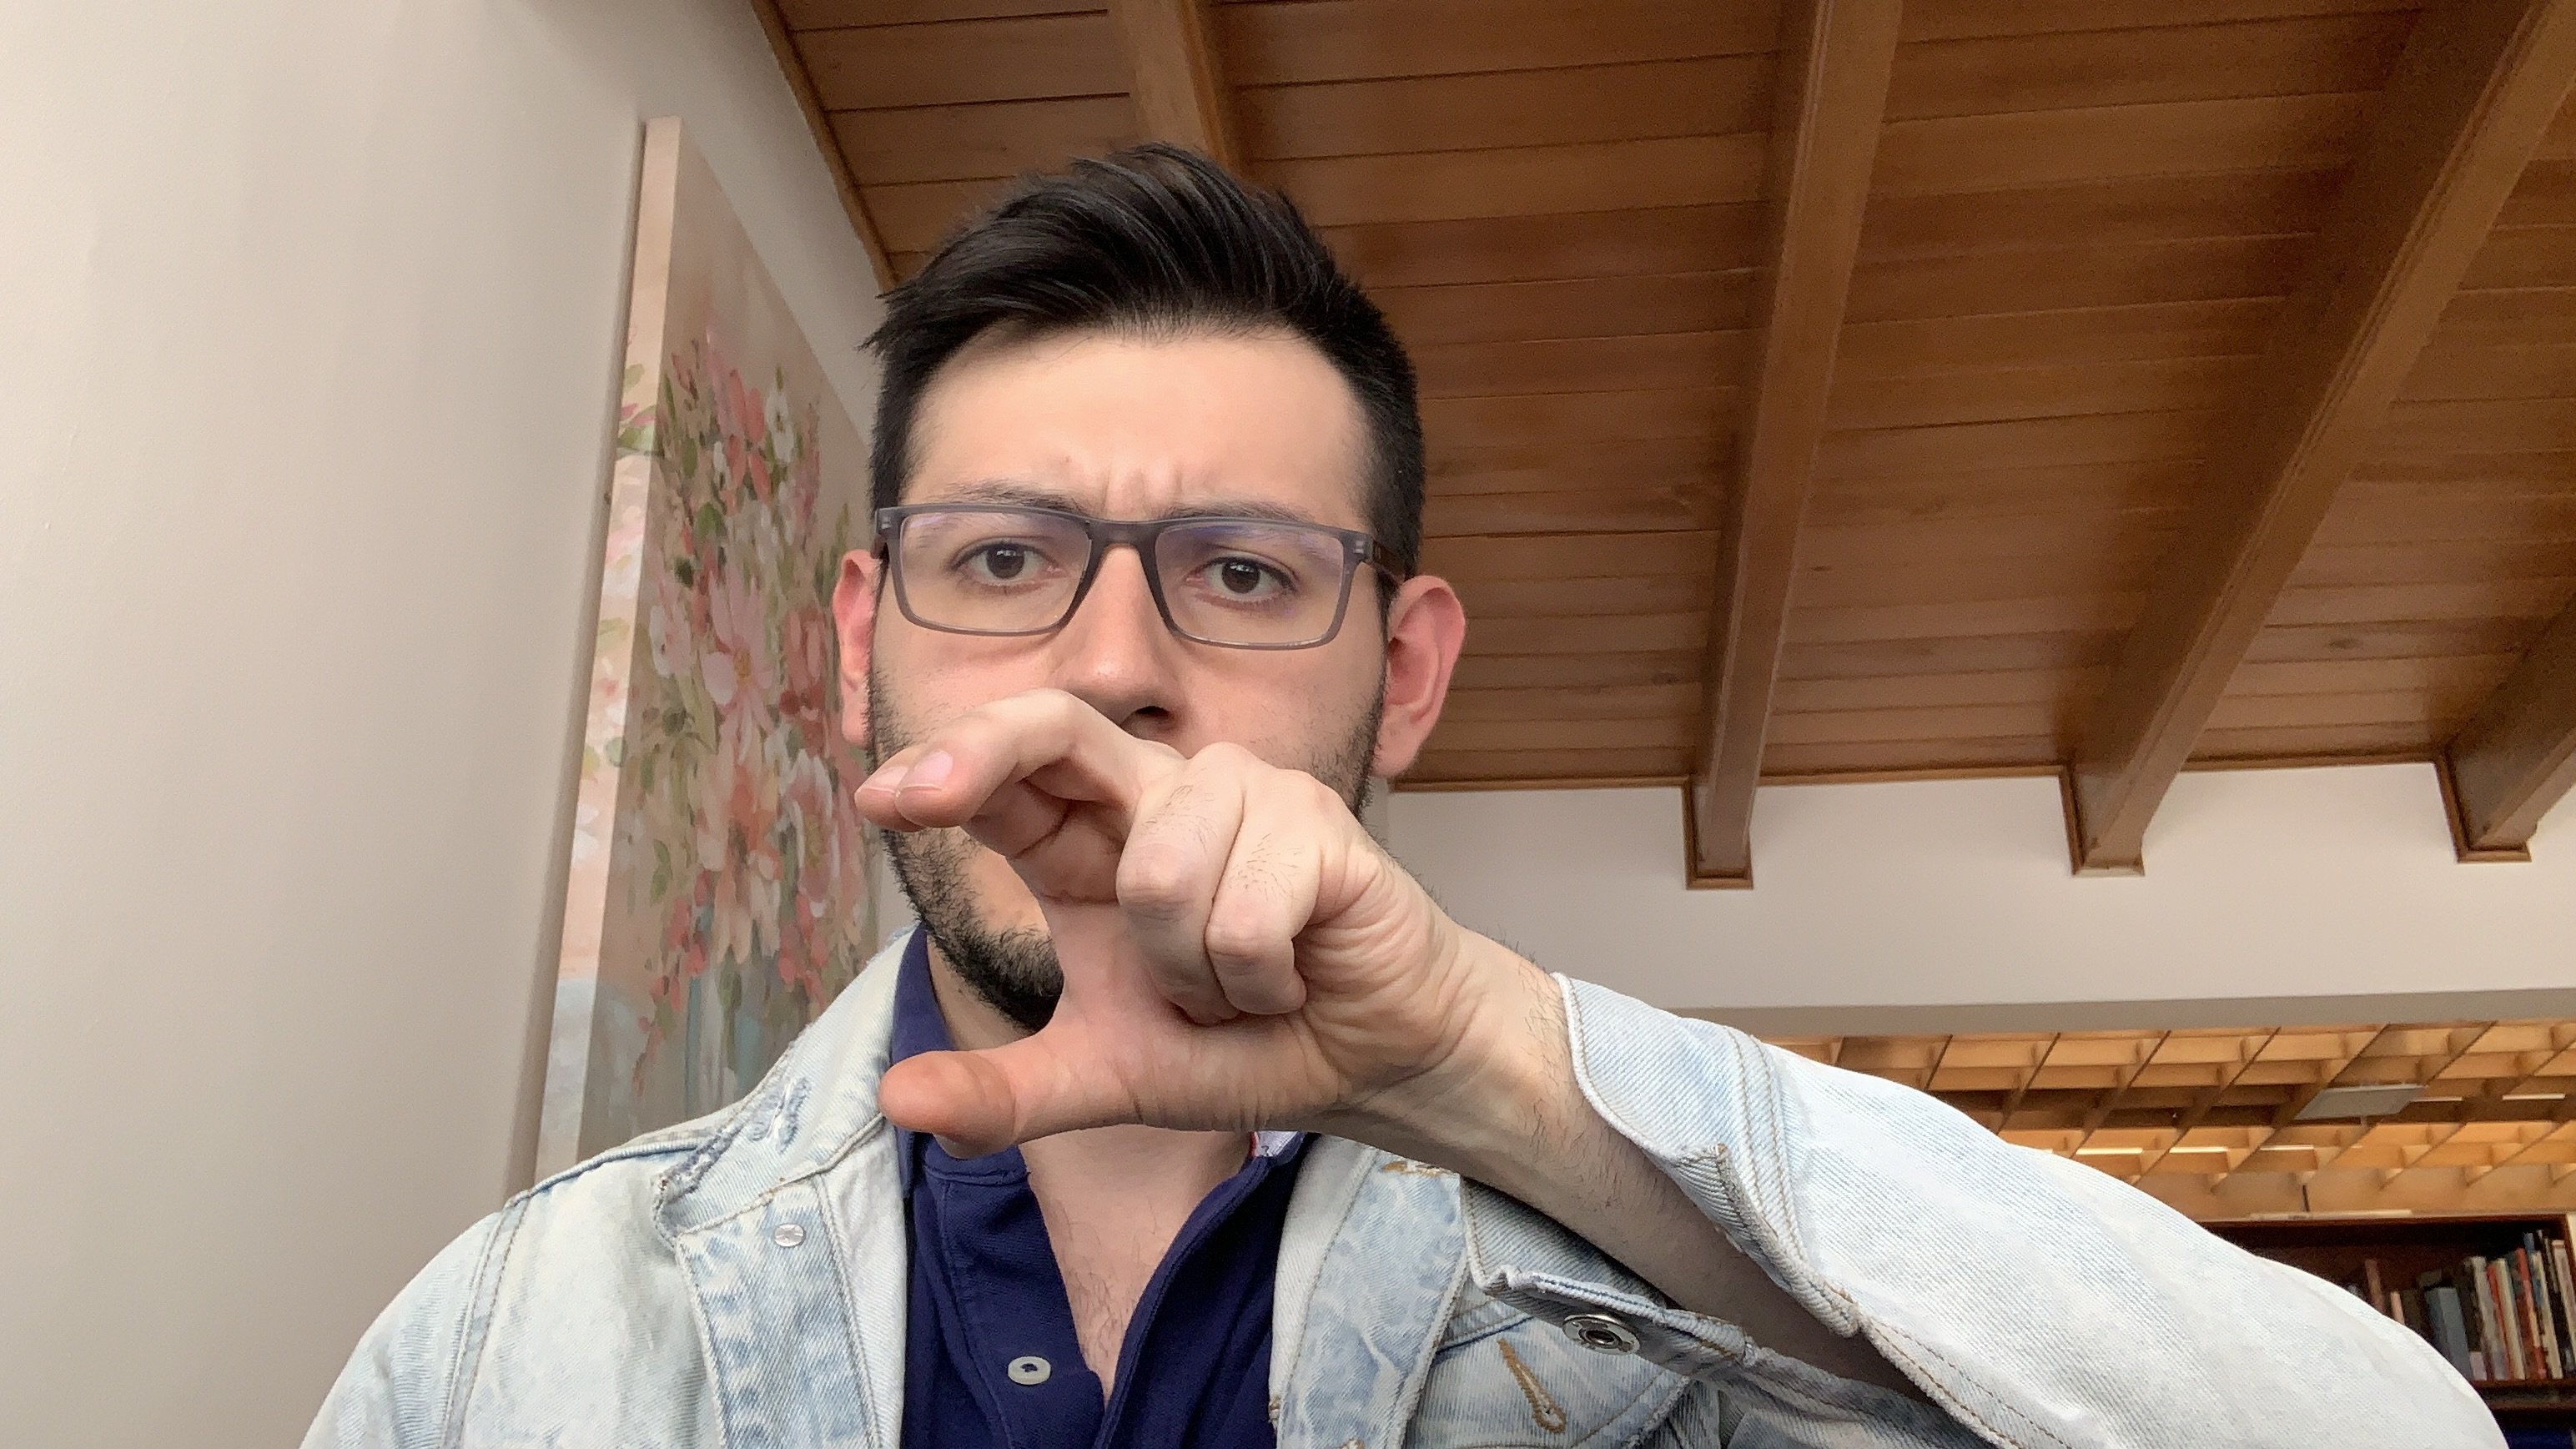No: (847, 674, 1476, 1180)
